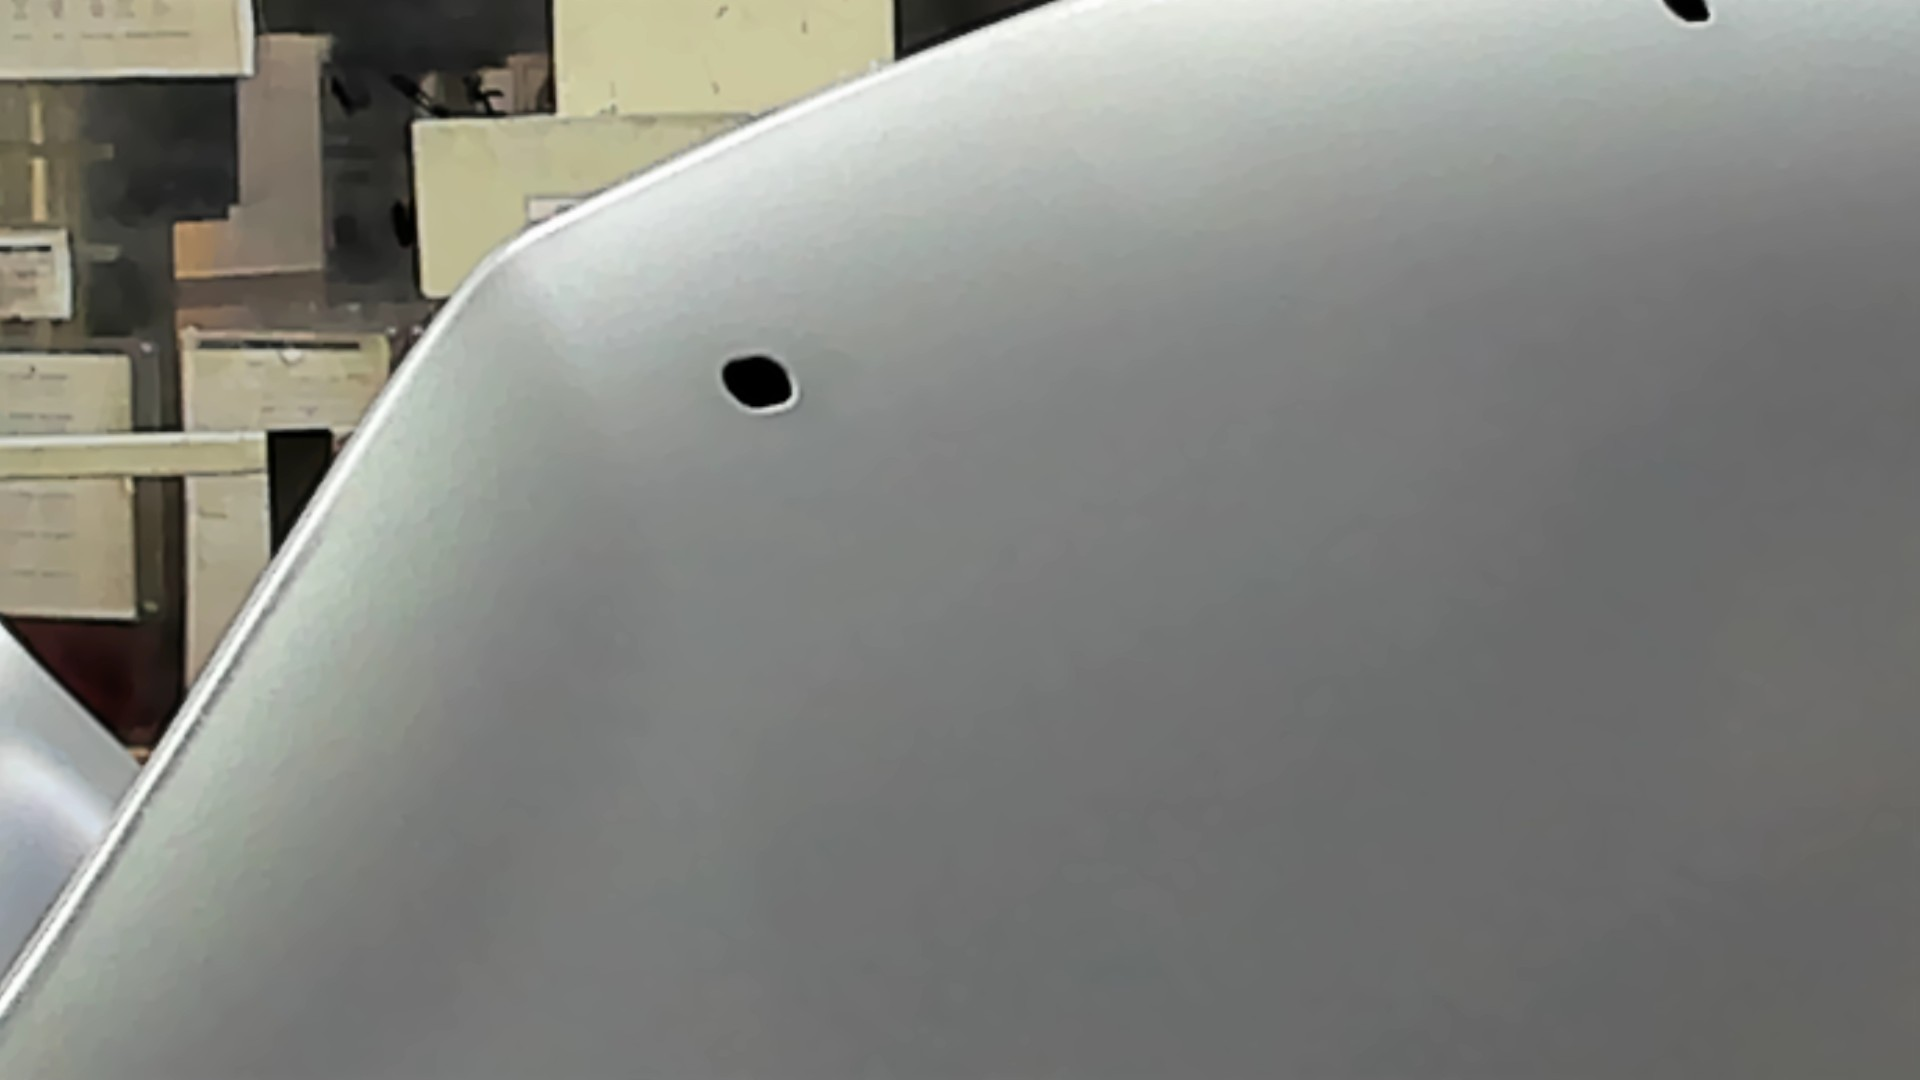amorfo: (713, 349, 804, 415), (1658, 1, 1724, 29)
